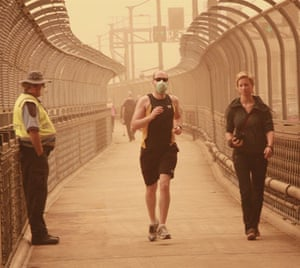person: (131, 69, 184, 242), (225, 74, 275, 241), (14, 72, 57, 246)
